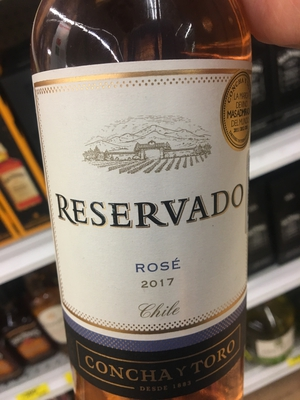reservado rose: (32, 9, 264, 395)
